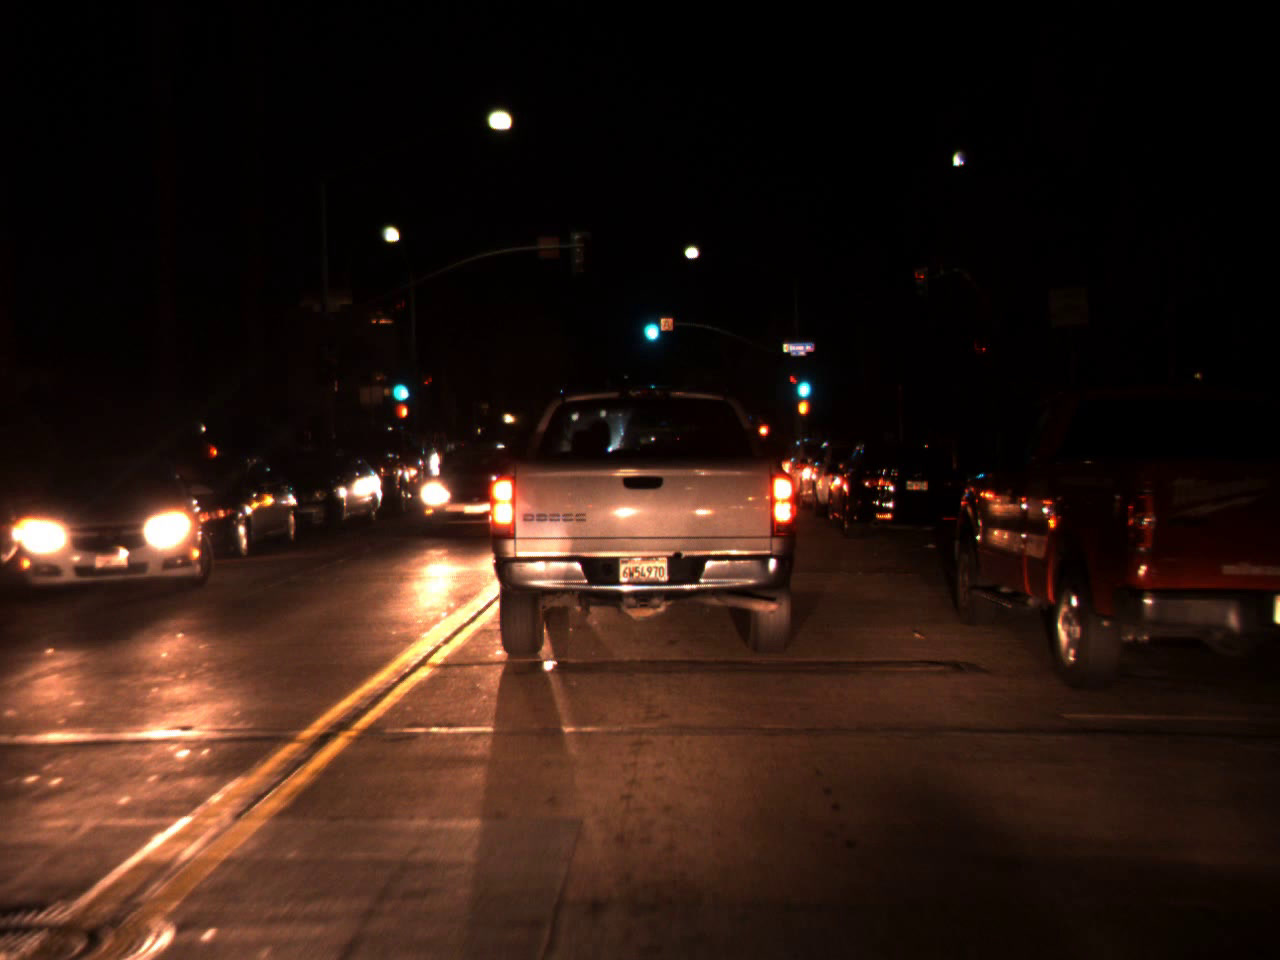go: (638, 304, 661, 346), (388, 365, 409, 407), (792, 363, 813, 402)
